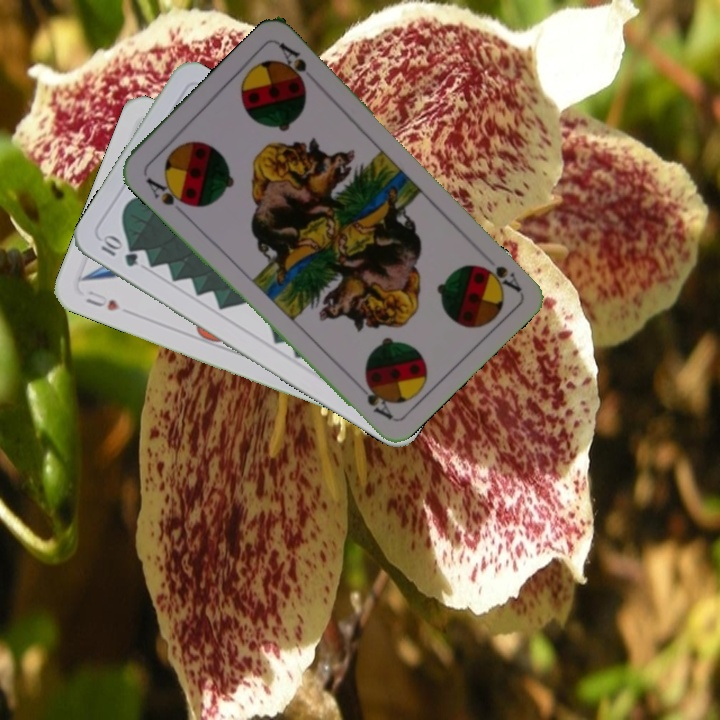G10: (97, 232, 141, 270)
HU: (82, 286, 123, 314)
SA: (142, 174, 193, 209), (475, 260, 524, 295)
